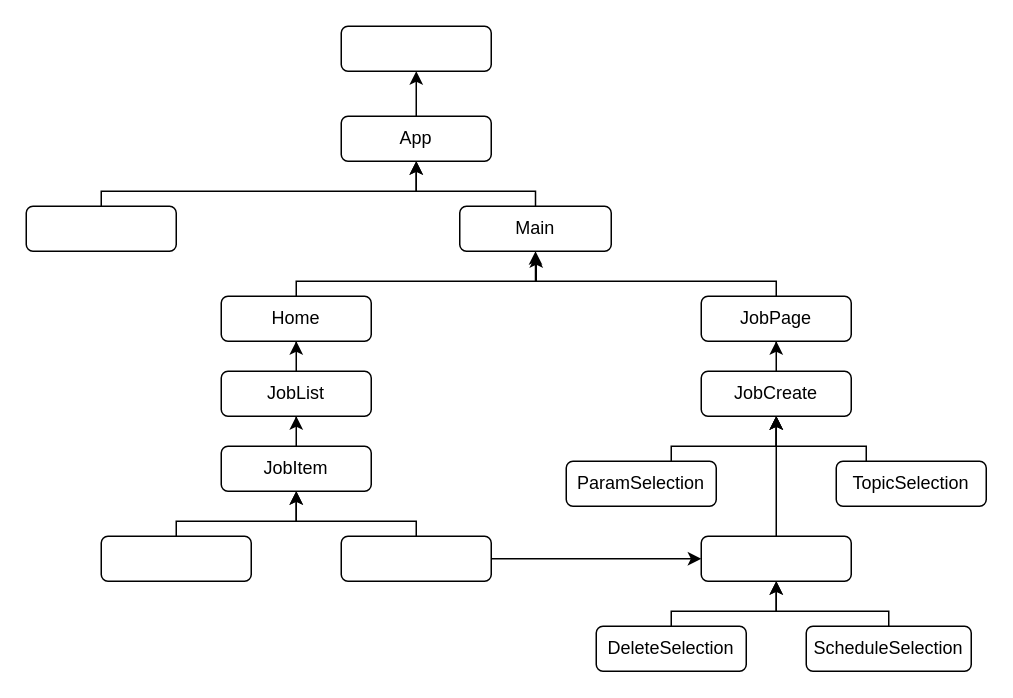
This 1013x698 diagram has some shape labels left out. The shapes that lost their labels are listed below. From the top down, each one's centre as x and y in pixels, then its label:
At [415,48]: "index.html".
At [100,228]: "Header".
At [175,558]: "JobInfo".
At [415,558]: "JobSettings".
At [775,558]: "SettingsPage".
